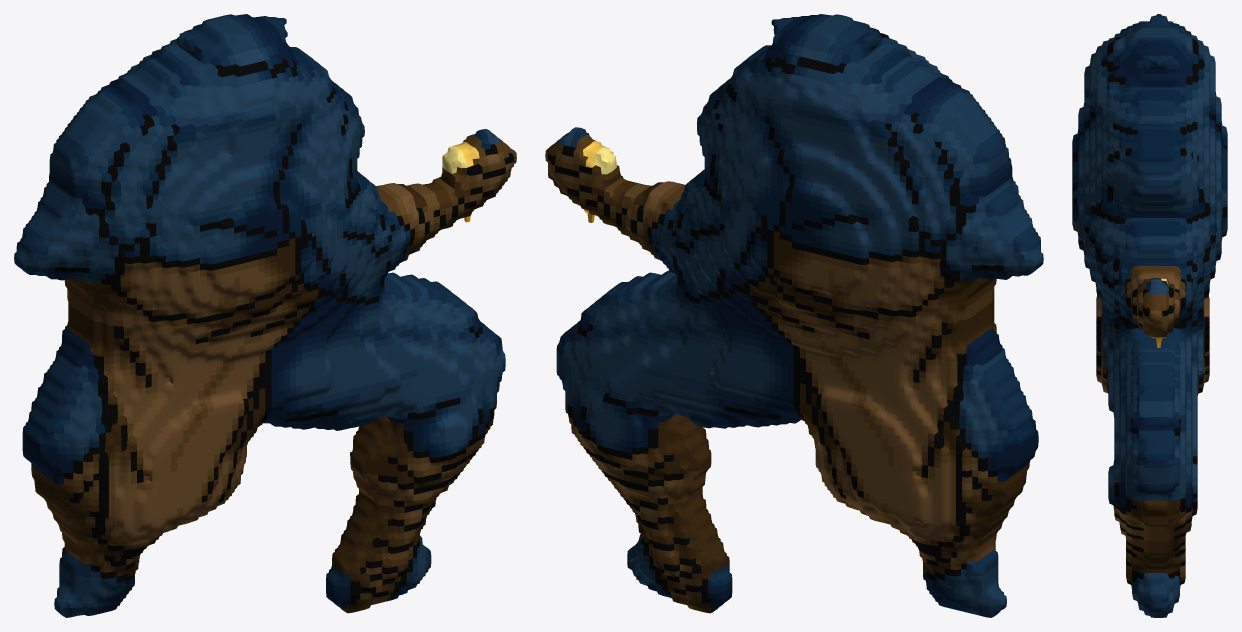
File: Fight_705_2_06.obj
The picture shows the model from 3 angles, left to right: view 1: azimuth 30°, elevation 25°; view 2: azimuth 150°, elevation 25°; view 3: azimuth 270°, elevation 25°; orthographic projection. The views are drawn at different scales.
Bounding box in the file's own units: 8.1 × 9.6 × 2.6.
